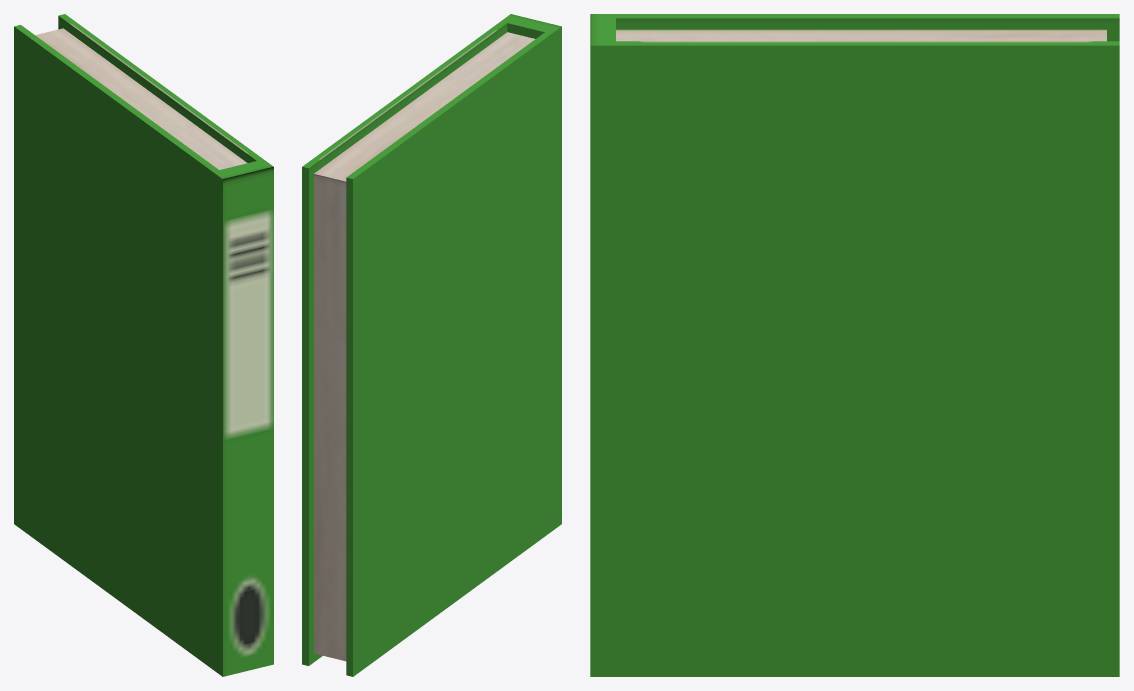
File: record file1.FBX
3 views of the same model, side by side, from view 1: azimuth 30°, elevation 25°; view 2: azimuth 150°, elevation 25°; view 3: azimuth 270°, elevation 25° (orthographic). The views are drawn at different scales.
Parts seen in each view (by area): view 1: record file1; view 2: record file1; view 3: record file1.
Part boxes in pixels (box(x1,y1,x2,y2)): record file1: box(14, 14, 273, 676); record file1: box(302, 14, 561, 676); record file1: box(590, 14, 1119, 676).
Size of the model in its own units: 1.5 by 10.63 by 13.99.
